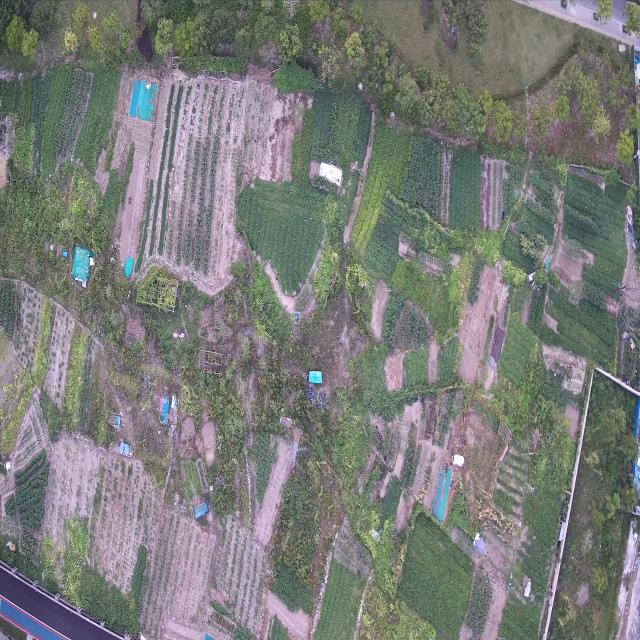UAV: (285, 439, 307, 473)
